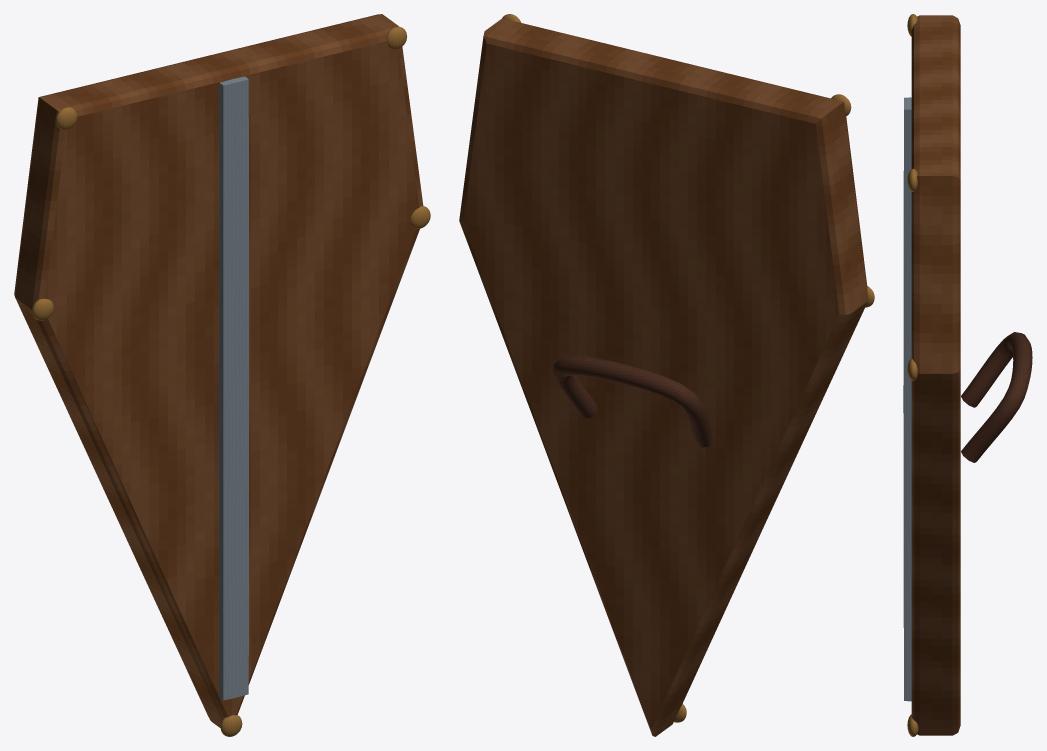
Rendered from kite-shield.lod1.glb.
The picture shows the model from 3 angles, left to right: view 1: azimuth 30°, elevation 25°; view 2: azimuth 150°, elevation 25°; view 3: azimuth 270°, elevation 25°; orthographic projection. The views are drawn at different scales.
Parts seen in each view (by area): view 1: wood.0, steel.6; view 2: wood.0, leather.7; view 3: wood.0, steel.6, leather.7.
Part boxes in pixels (x1,y1,x2,y2): wood.0: [14, 14, 423, 727]; steel.6: [219, 76, 248, 700]; wood.0: [459, 19, 868, 736]; leather.7: [553, 355, 714, 447]; wood.0: [911, 15, 960, 735]; steel.6: [903, 97, 911, 701]; leather.7: [961, 332, 1032, 462].
Size of the model in its own units: 0.676 by 1.09 by 0.1973.
Materials: 4 (4 with a texture image).
